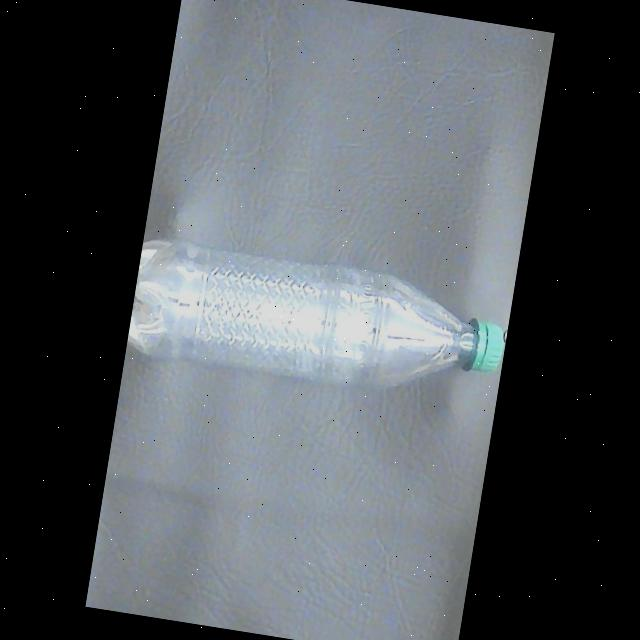trash: (124, 230, 514, 418)
